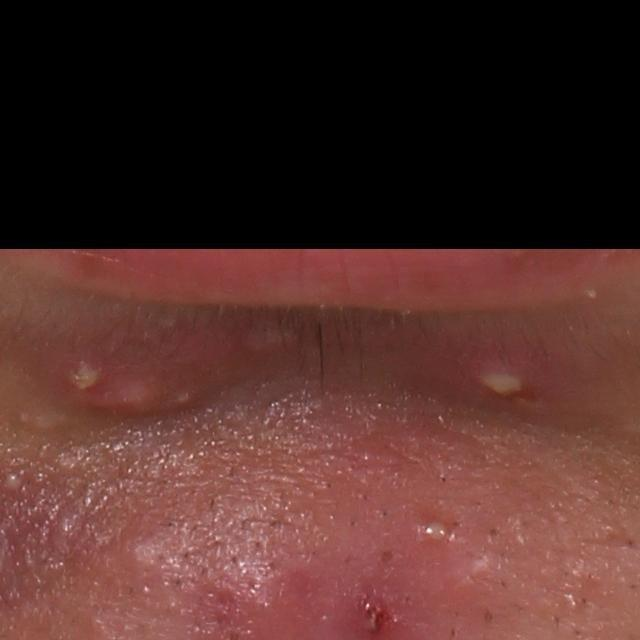hypertrophic_scar: (27, 412, 68, 436)
papule: (101, 367, 160, 426), (117, 530, 167, 582)
pustule: (424, 339, 560, 421), (66, 355, 104, 398), (417, 516, 452, 548), (170, 386, 194, 408)
